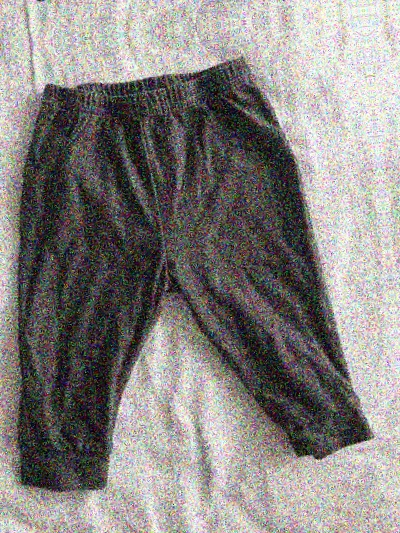Pants: (0, 32, 391, 501), (0, 0, 343, 29), (385, 0, 400, 460)
